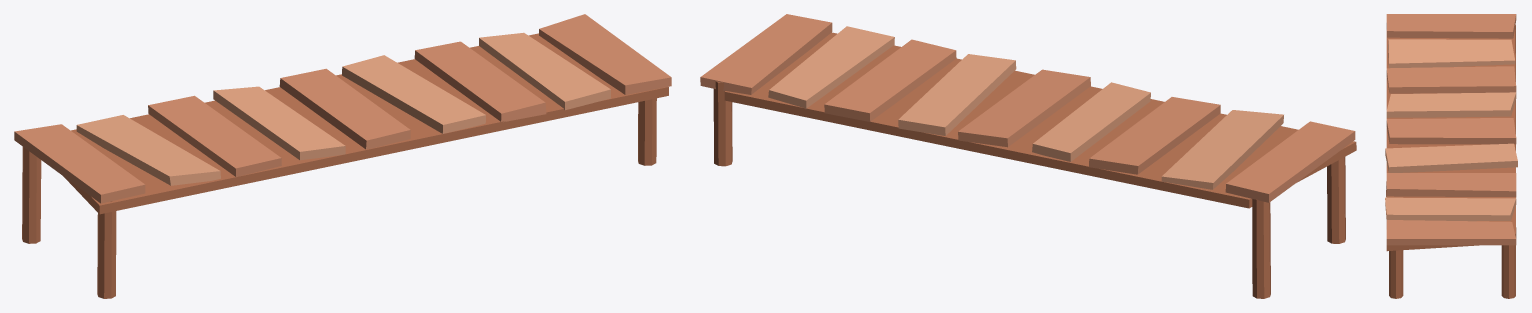
Rendered from tinybridge.obj.
The picture shows the model from 3 angles, left to right: view 1: azimuth 30°, elevation 25°; view 2: azimuth 150°, elevation 25°; view 3: azimuth 270°, elevation 25°; orthographic projection. The views are drawn at different scales.
Visible parts, largest first — view 1: tinybridge; view 2: tinybridge; view 3: tinybridge.
Boxes of the visible parts, x1,y1,x2,y2 form: tinybridge: (14,14,671,298); tinybridge: (700,14,1356,298); tinybridge: (1385,14,1517,298).
Size of the model in its own units: 3.1 by 0.5601 by 0.8313.
